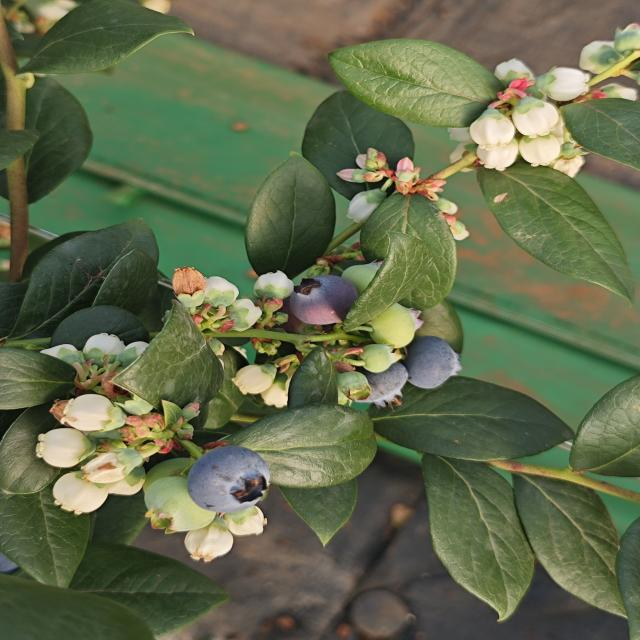ripe: (184, 444, 274, 516), (286, 273, 360, 328), (401, 334, 464, 392), (370, 358, 409, 401)
